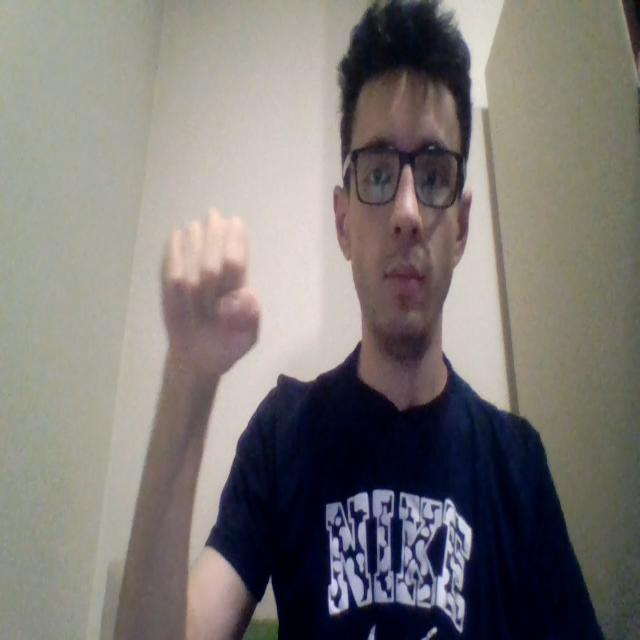yes: (160, 206, 262, 382)
